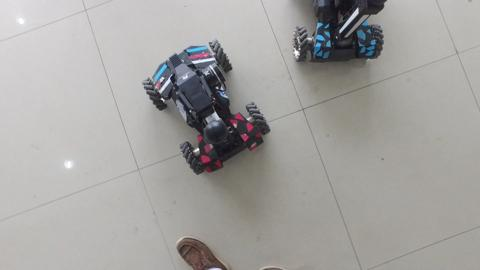chariot: (139, 39, 277, 179), (287, 1, 390, 77)
